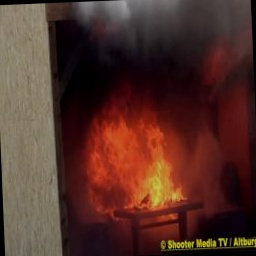fire: (81, 98, 203, 219)
